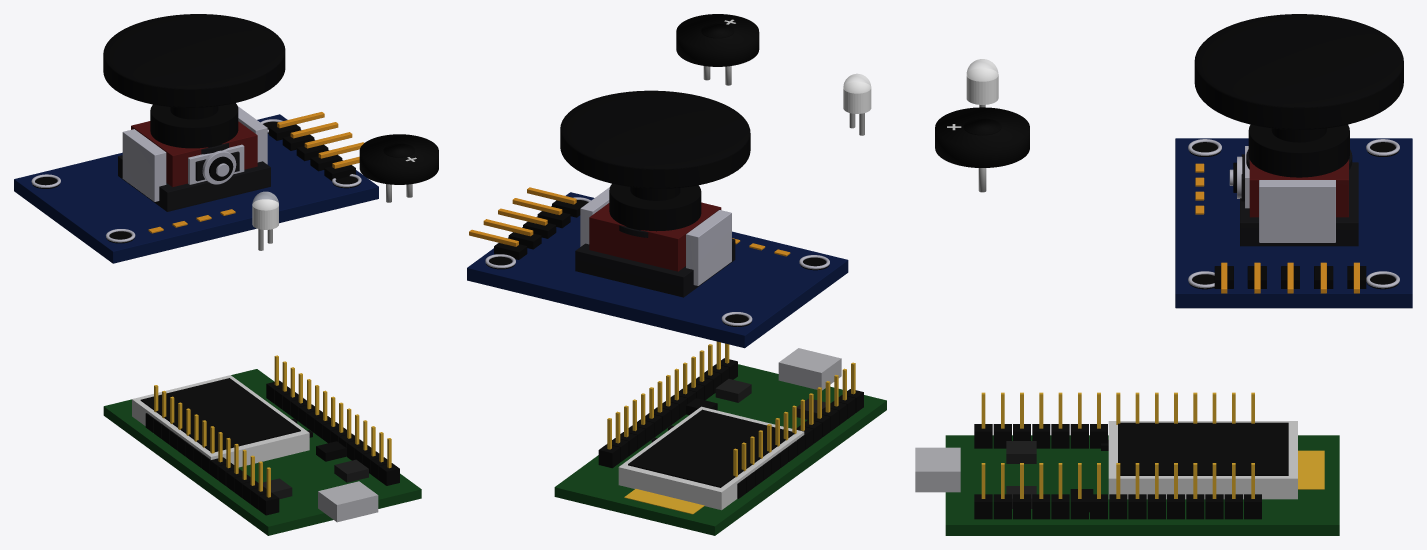
The model's file is 02_Electronics.obj.
3 views of the same model, side by side, from view 1: azimuth 30°, elevation 25°; view 2: azimuth 150°, elevation 25°; view 3: azimuth 270°, elevation 25° (orthographic). The views are drawn at different scales.
Parts seen in each view (by area): view 1: PCB_|_main_board, ESP32_Model_Scaled, Passive_Buzzer_Model, White_LED_Model; view 2: PCB_|_main_board, ESP32_Model_Scaled, Passive_Buzzer_Model, White_LED_Model; view 3: PCB_|_main_board, ESP32_Model_Scaled, Passive_Buzzer_Model, White_LED_Model.
Part boxes in pixels (bbox=[...]): PCB_|_main_board: bbox=[14, 14, 378, 263]; ESP32_Model_Scaled: bbox=[103, 355, 421, 535]; Passive_Buzzer_Model: bbox=[359, 134, 438, 202]; White_LED_Model: bbox=[252, 191, 278, 250]; PCB_|_main_board: bbox=[467, 90, 848, 348]; ESP32_Model_Scaled: bbox=[554, 341, 886, 535]; Passive_Buzzer_Model: bbox=[676, 14, 759, 85]; White_LED_Model: bbox=[843, 73, 871, 135]; PCB_|_main_board: bbox=[1175, 14, 1412, 308]; ESP32_Model_Scaled: bbox=[915, 392, 1339, 535]; Passive_Buzzer_Model: bbox=[935, 107, 1029, 192]; White_LED_Model: bbox=[966, 59, 998, 107].
Bounding box in the file's own units: 1.5 × 1.83 × 1.89.
